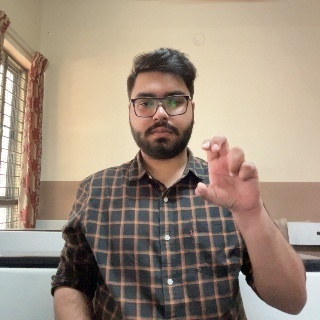Face: (127, 62, 194, 161)
No: (198, 137, 266, 236)
